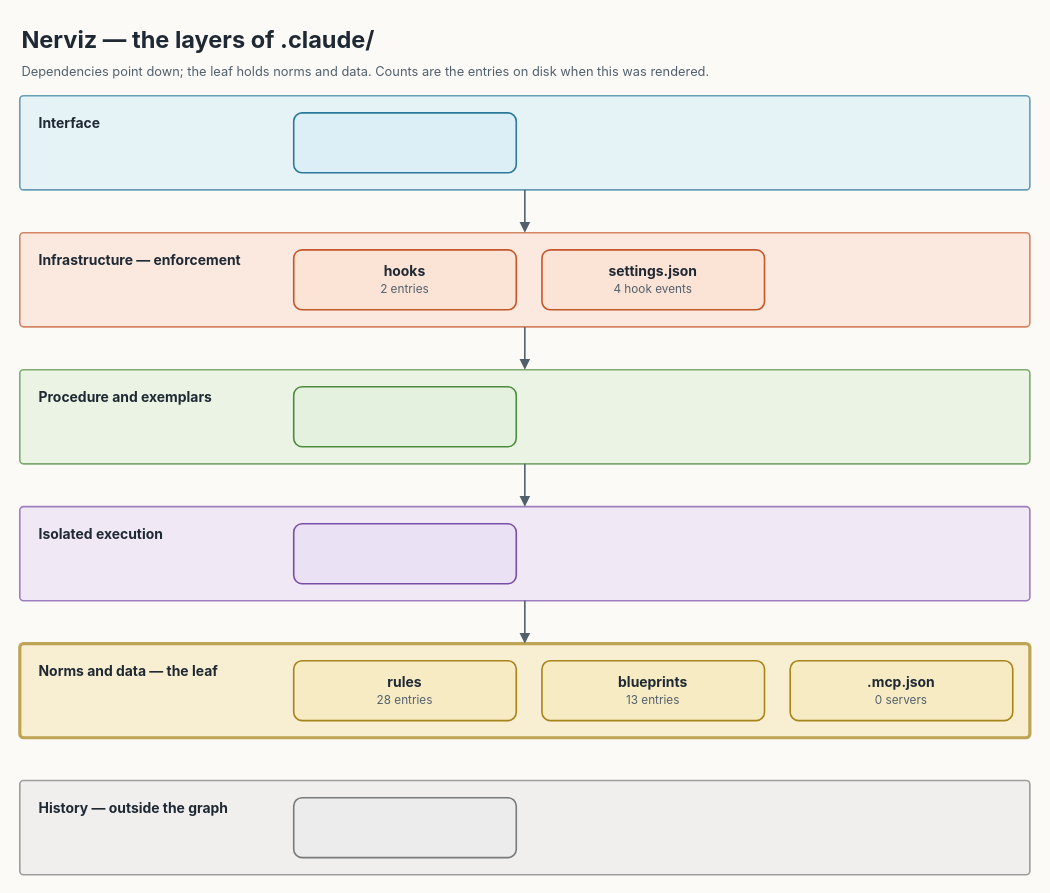
The diagram is 1050 pixels wide and 893 high, and some of its shapes have lost their labels. The centre of each missing label's shape, as x and y in pixels:
agents 7 entries: [404,553]
decisions 204 entries: [404,827]
mods 2 entries: [404,142]
skills 36 entries: [404,416]
